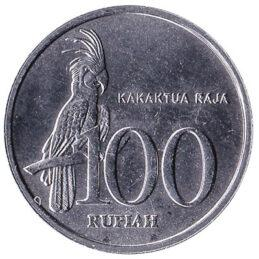coin_100_e1999: (1, 3, 253, 254)
